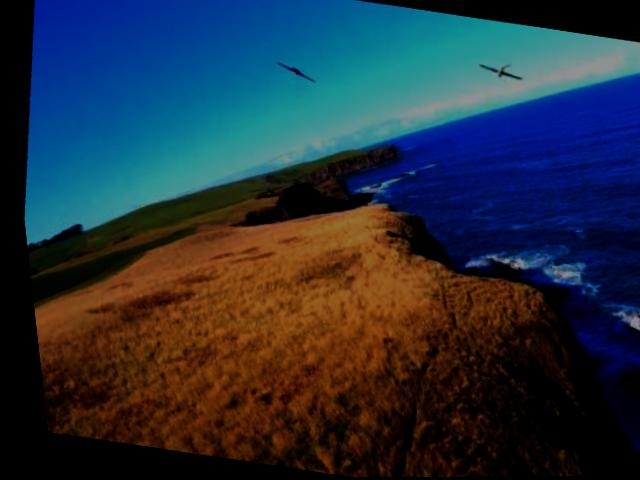uav: (474, 59, 522, 84), (271, 60, 318, 84)
